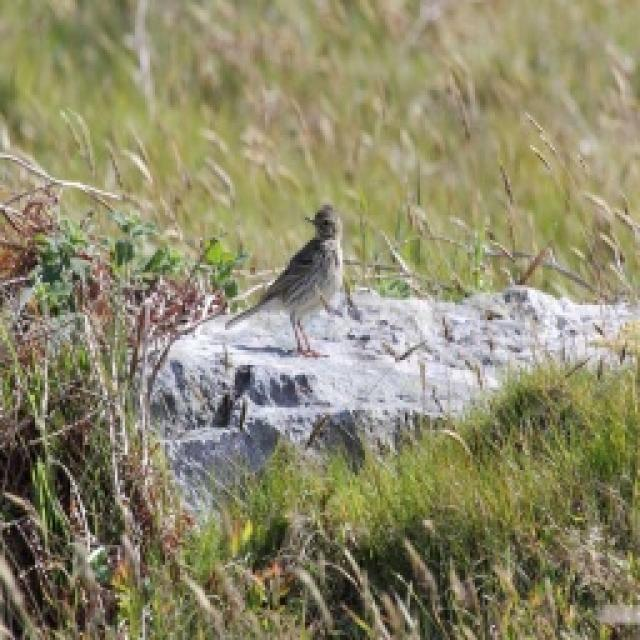sparrow: (220, 200, 352, 360)
